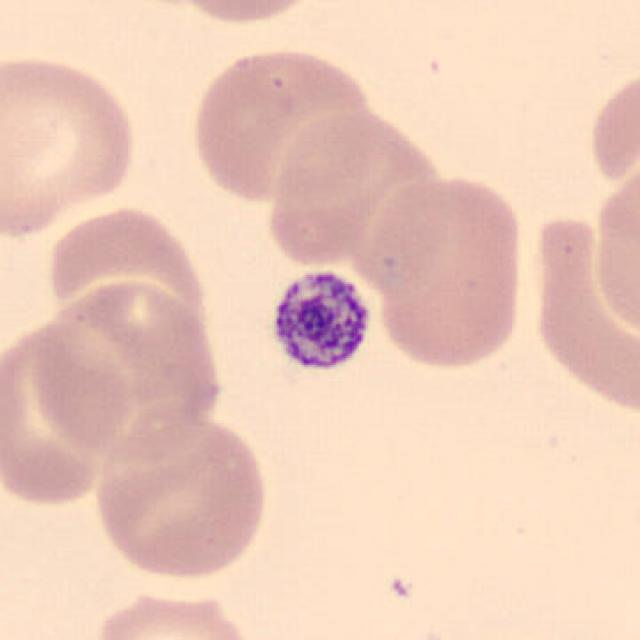Platelets: (261, 264, 377, 381)
RBC: (21, 280, 231, 468), (362, 167, 532, 374), (89, 409, 274, 585), (185, 42, 379, 206), (262, 102, 438, 272), (0, 308, 135, 518), (0, 48, 144, 243), (41, 201, 213, 347), (524, 201, 636, 425), (586, 153, 640, 347), (84, 585, 262, 640), (585, 64, 638, 195), (148, 0, 327, 28)
